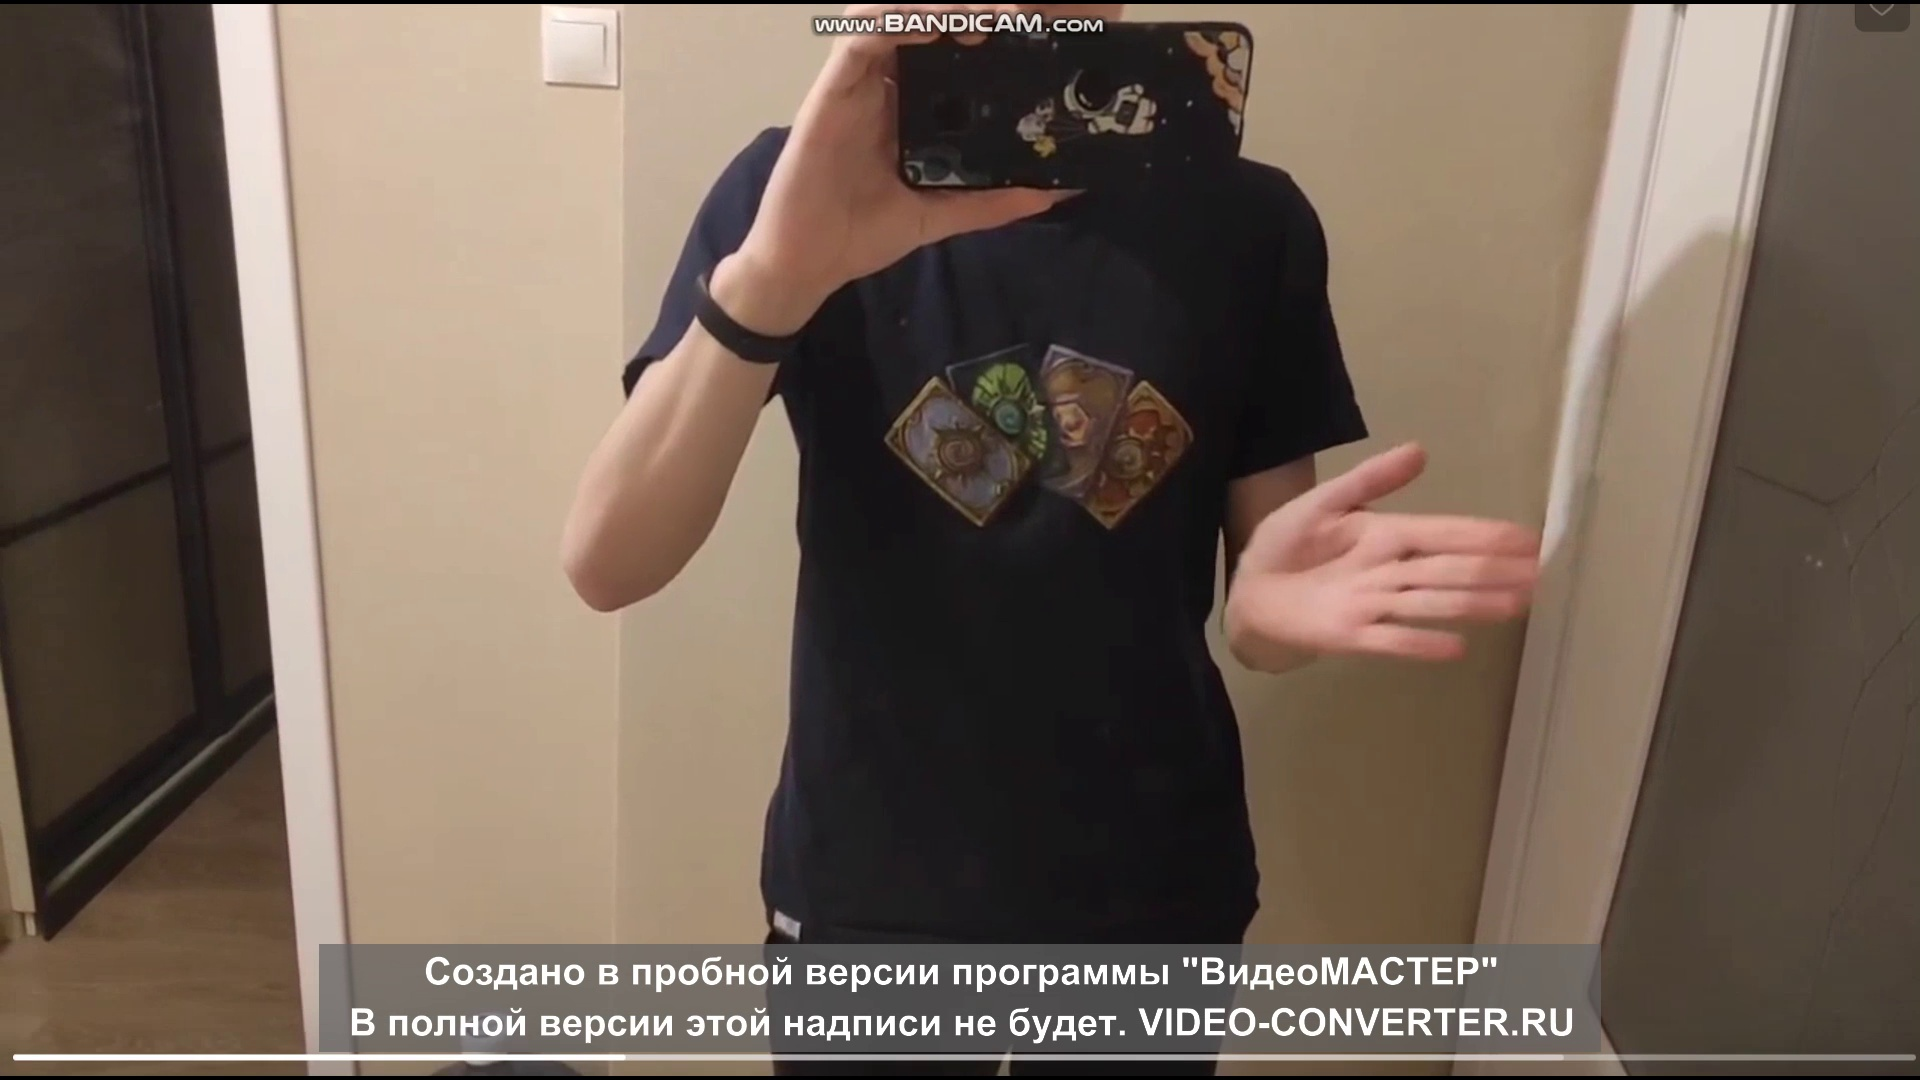Ладонь: (1245, 440, 1544, 663)
